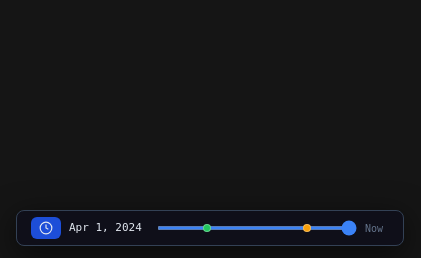
Test: TimelineScrubber › popover closes when backdrop is clicked
Click the 1st button with class "tl-marker". click: (207, 228)
box: left=203, top=224, right=211, bottom=232
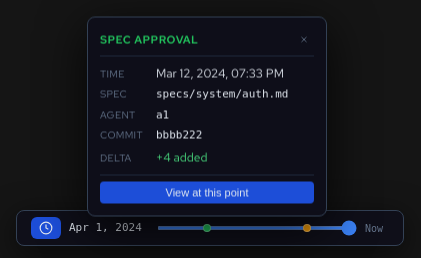
Expected: the element with class "tl-popover" is shown
Click the element with class "tl-popover-backdrop". click: (207, 116)
box: left=87, top=16, right=327, bottom=216
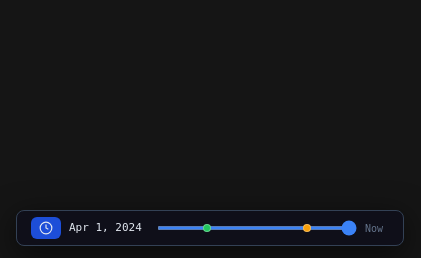
Expected: the element with class "tl-popover" is gone
